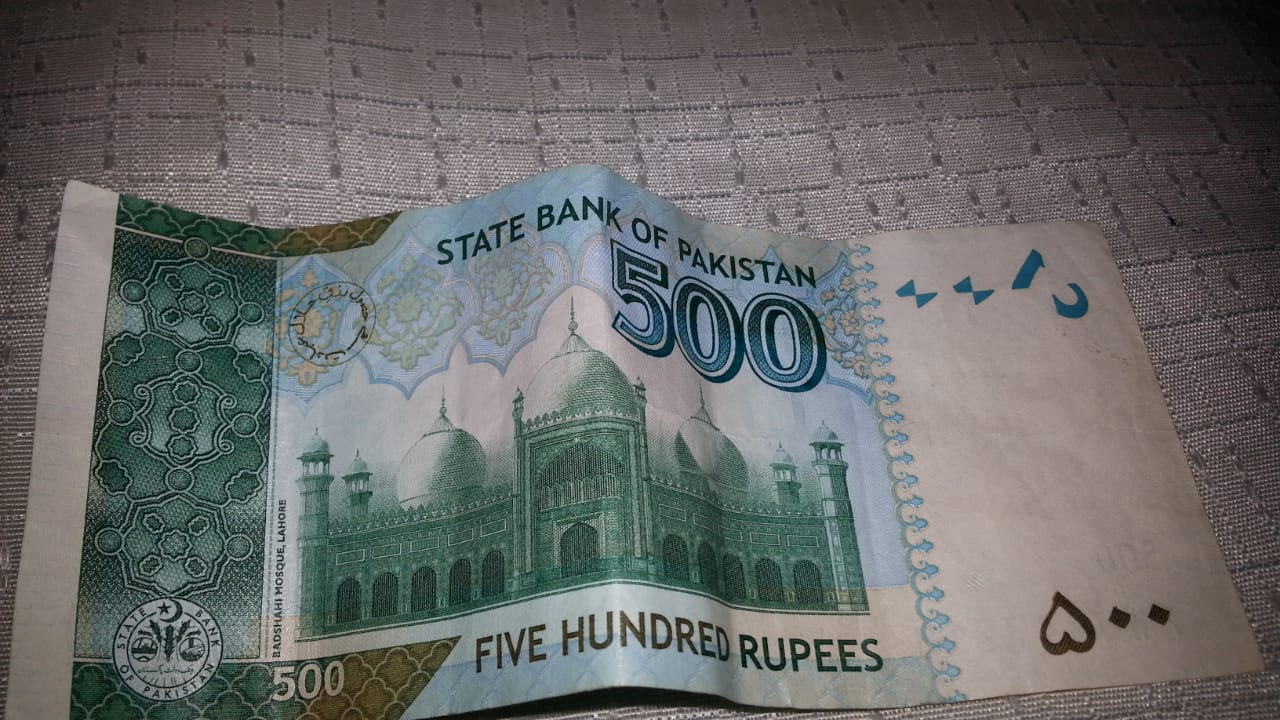500 rupee: (42, 166, 1212, 719)
